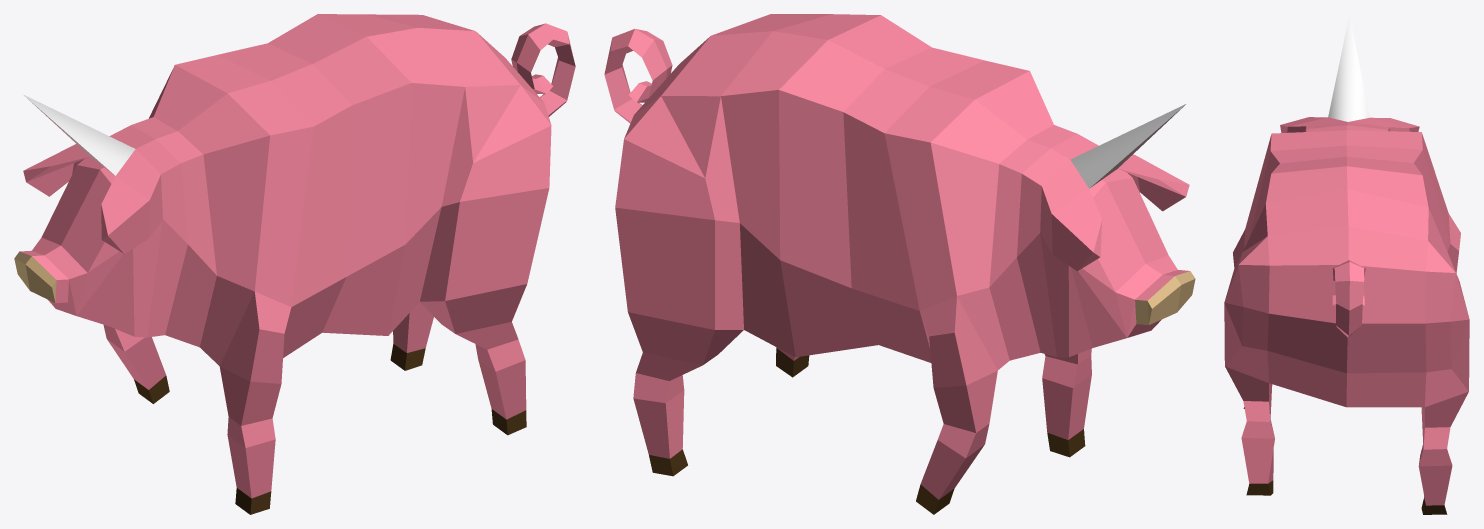
File: pigWalking11.obj
3 renders of one model, left to right at view 1: azimuth 30°, elevation 25°; view 2: azimuth 150°, elevation 25°; view 3: azimuth 270°, elevation 25°, orthographic. The views are drawn at different scales.
Parts seen in each view (by area): view 1: Pig_Cylinder; view 2: Pig_Cylinder; view 3: Pig_Cylinder.
Boxes of the visible parts, <box> form: Pig_Cylinder: <box>14,14,575,514</box>; Pig_Cylinder: <box>604,14,1195,514</box>; Pig_Cylinder: <box>1224,15,1469,514</box>.
Size of the model in its own units: 22.87 by 16.43 by 11.11.
